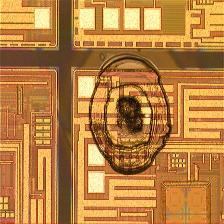COATING BAD: (67, 25, 188, 181)
